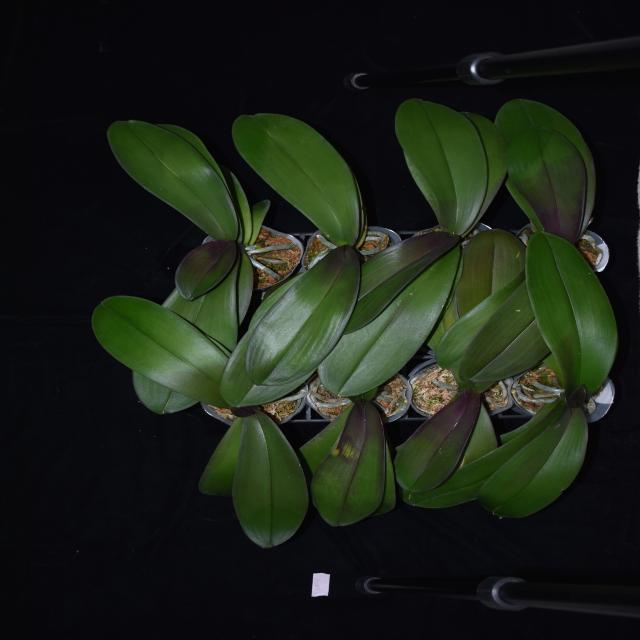leaf: (316, 244, 462, 396), (100, 118, 252, 243), (232, 111, 367, 248), (239, 244, 364, 387), (400, 402, 563, 508), (95, 294, 236, 411), (528, 229, 618, 405), (133, 266, 239, 412), (492, 99, 592, 238), (476, 406, 592, 522), (340, 228, 462, 334), (397, 99, 488, 234), (308, 400, 392, 529), (232, 412, 309, 548), (460, 281, 555, 383), (225, 307, 318, 407), (393, 389, 483, 492), (509, 128, 588, 243), (456, 221, 526, 317), (459, 109, 510, 238), (292, 397, 353, 478), (197, 412, 245, 498), (174, 238, 238, 302), (457, 403, 497, 466), (238, 252, 253, 322), (252, 195, 272, 246), (568, 380, 590, 406)
